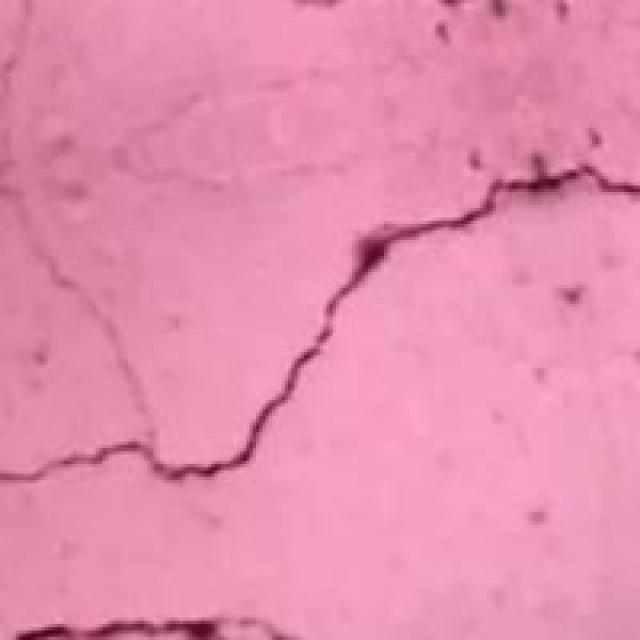Crack: (3, 154, 637, 541)
